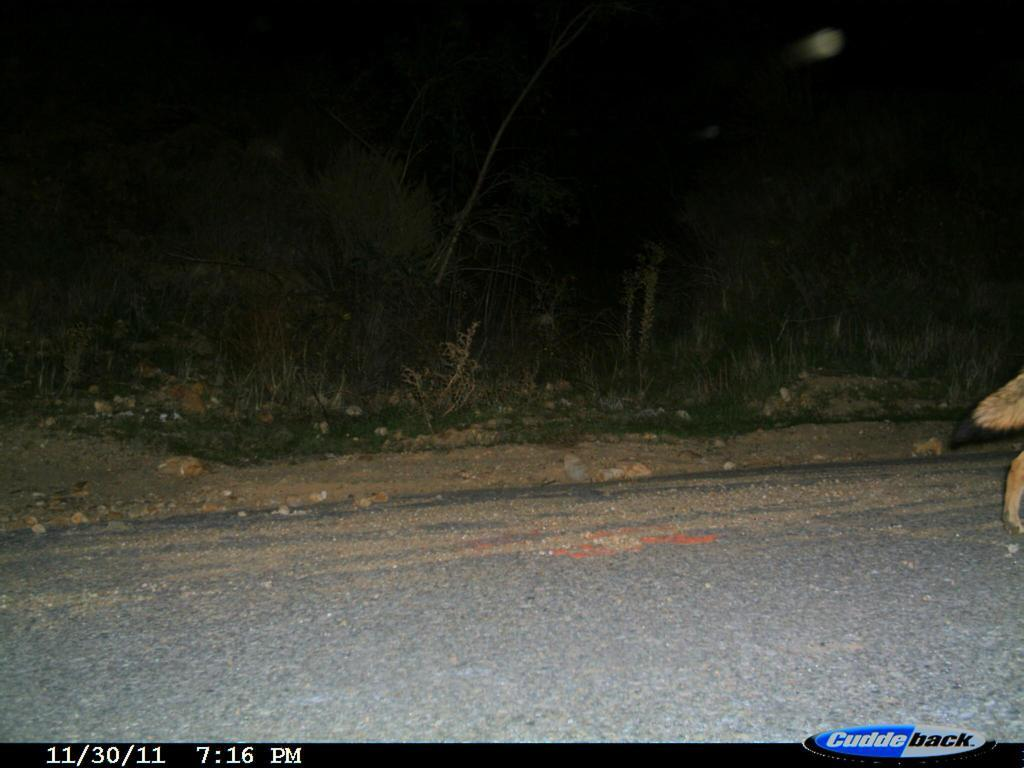coyote: (937, 356, 1023, 536)
